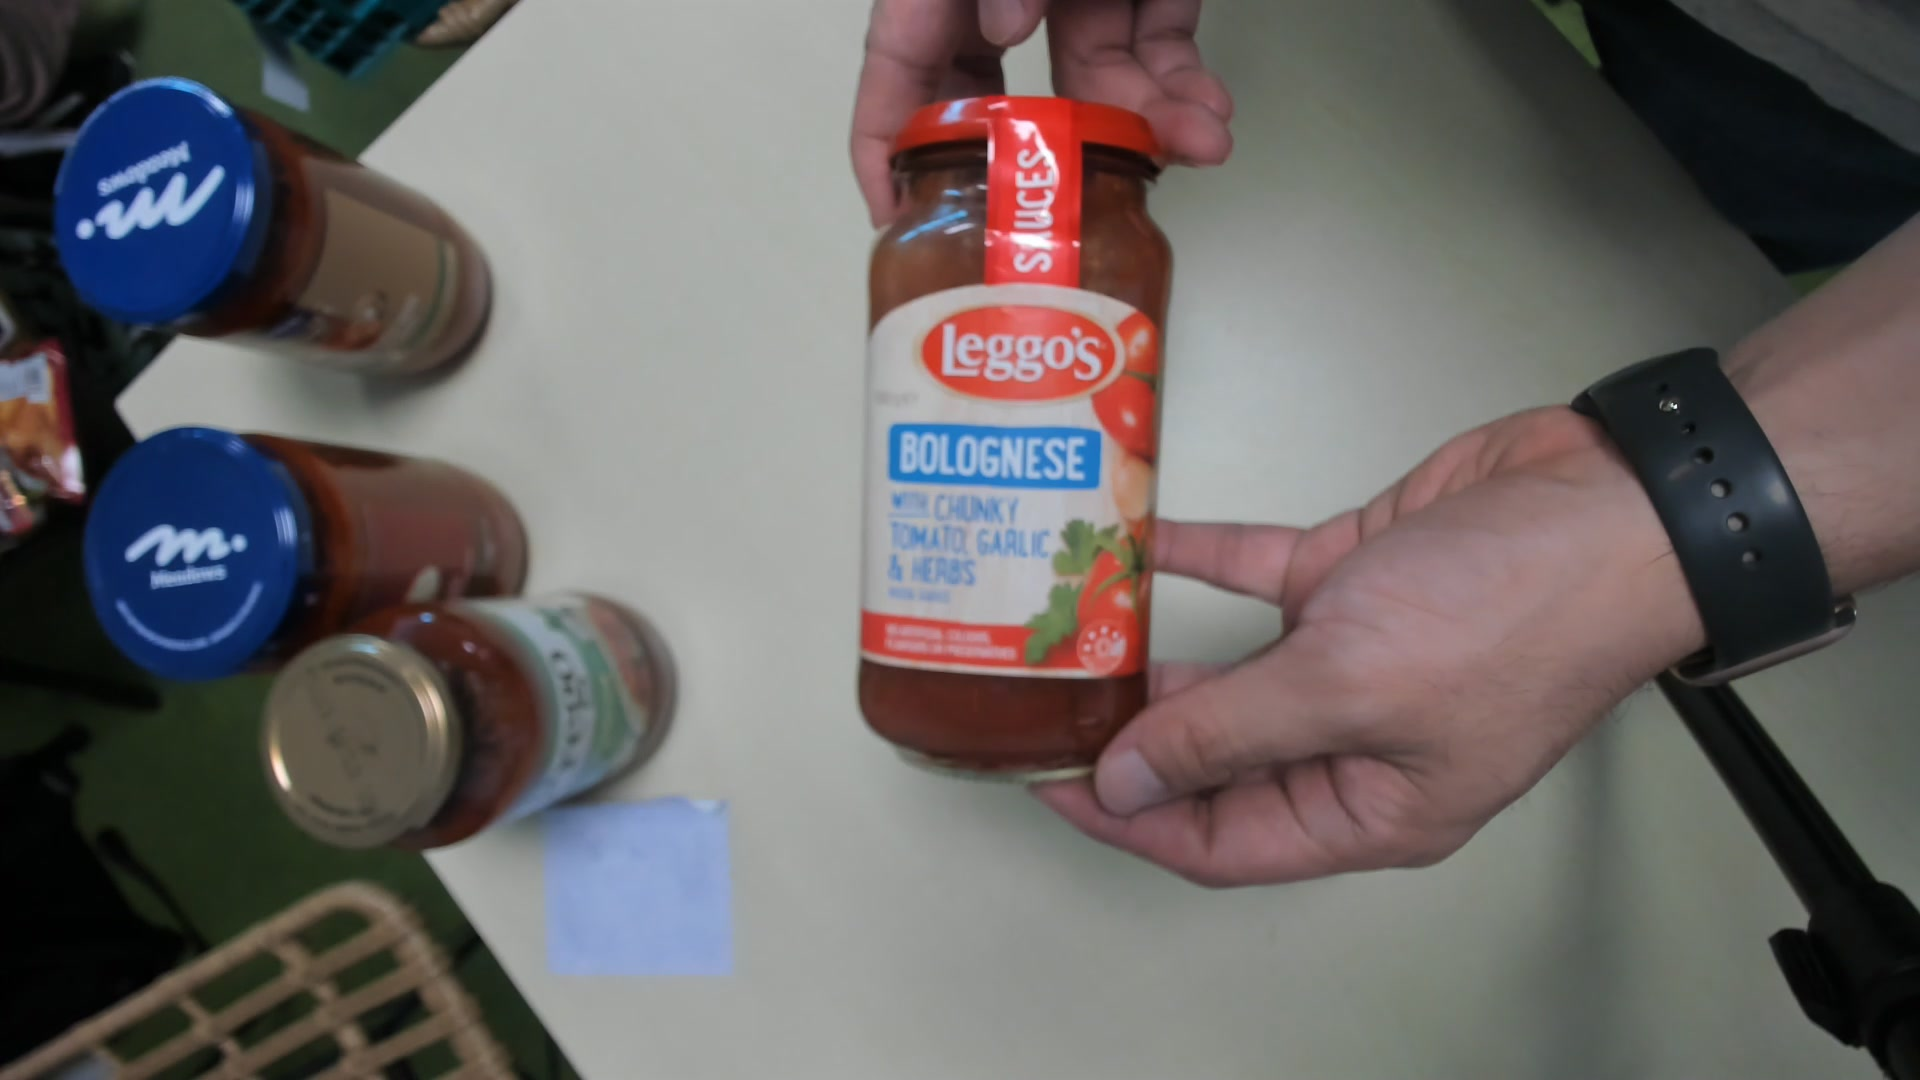PastaSauce_500-599g_Halal_NonHealthy: (858, 88, 1153, 771)
